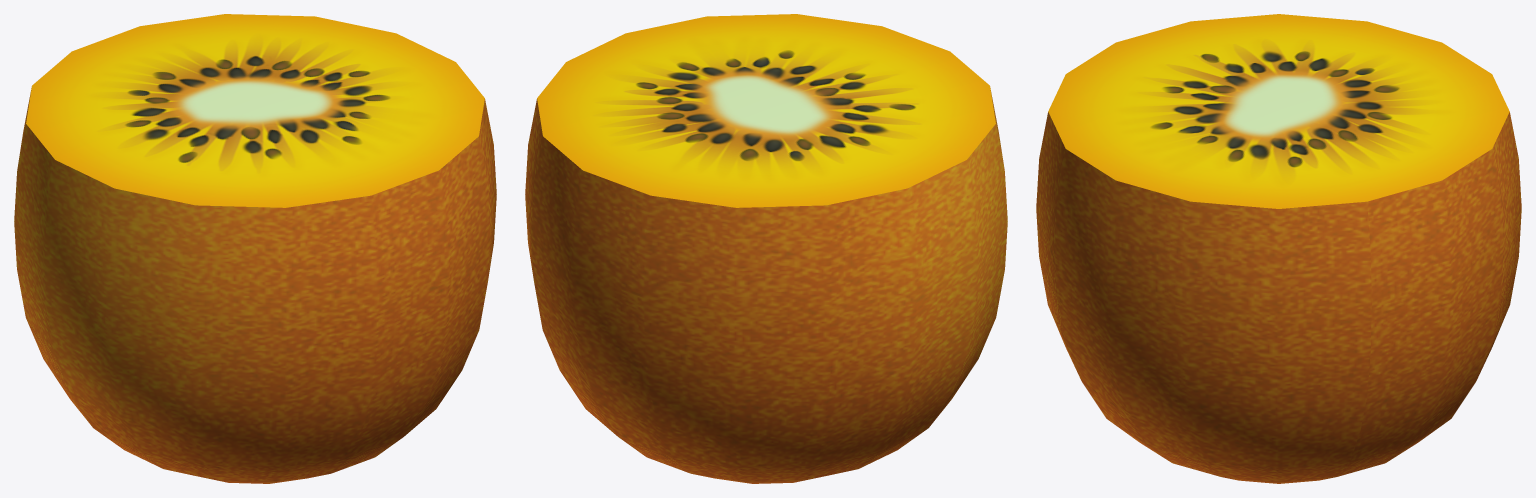
File: Kiwi_Yellow_Half.fbx
The picture shows the model from 3 angles, left to right: view 1: azimuth 30°, elevation 25°; view 2: azimuth 150°, elevation 25°; view 3: azimuth 270°, elevation 25°; orthographic projection.
Visible parts, largest first — view 1: Kiwi_Yellow_Half; view 2: Kiwi_Yellow_Half; view 3: Kiwi_Yellow_Half.
Part boxes in pixels (bbox=[...]): Kiwi_Yellow_Half: bbox=[14, 14, 496, 483]; Kiwi_Yellow_Half: bbox=[525, 14, 1007, 483]; Kiwi_Yellow_Half: bbox=[1036, 14, 1521, 483].
Bounding box in the file's own units: 26.59 × 21.4 × 26.59.
